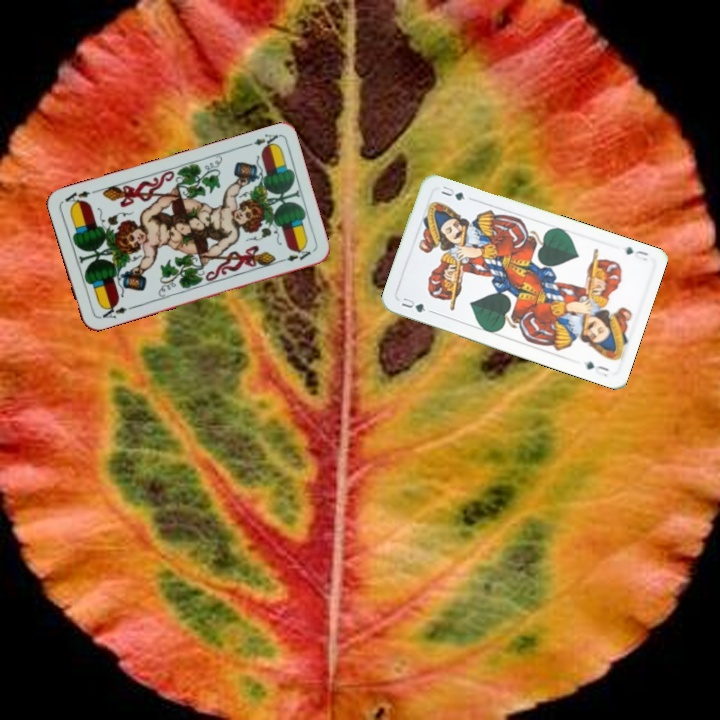EA: (95, 300, 135, 321), (241, 130, 281, 151)
GU: (397, 294, 428, 315), (621, 243, 651, 263)
